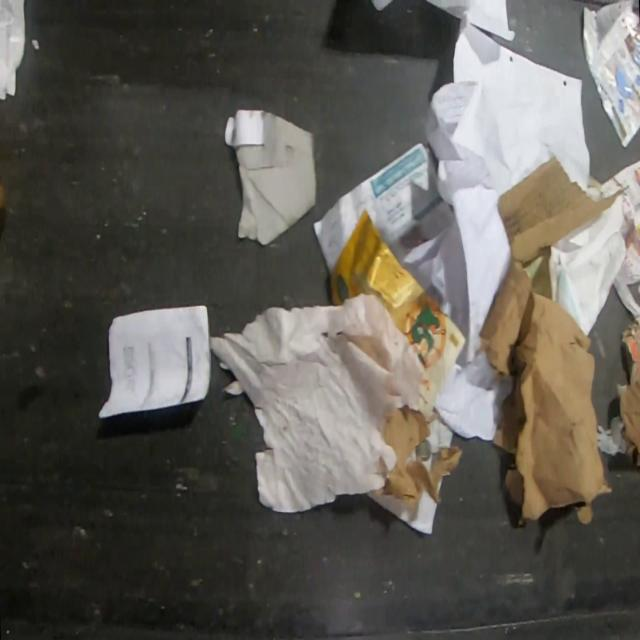cardboard: (476, 154, 625, 528), (615, 380, 640, 468), (620, 313, 640, 386)
rigid_plastic: (598, 415, 630, 457)
